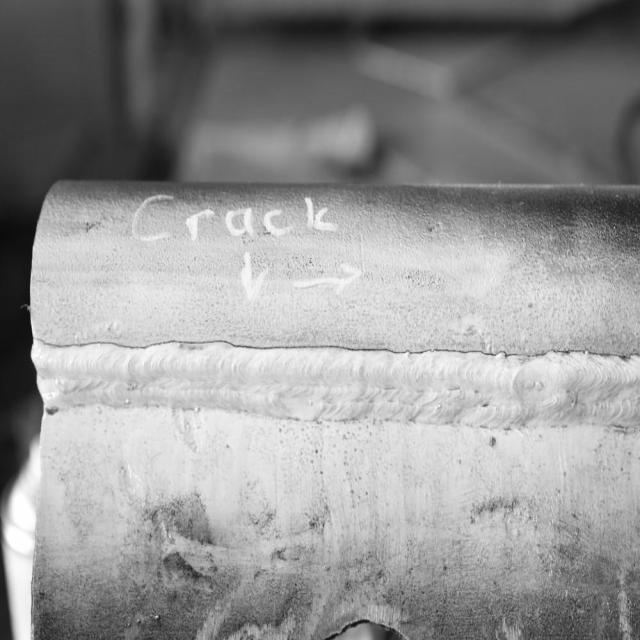Bad Welding: (33, 324, 638, 440)
Crack: (36, 333, 640, 376)
